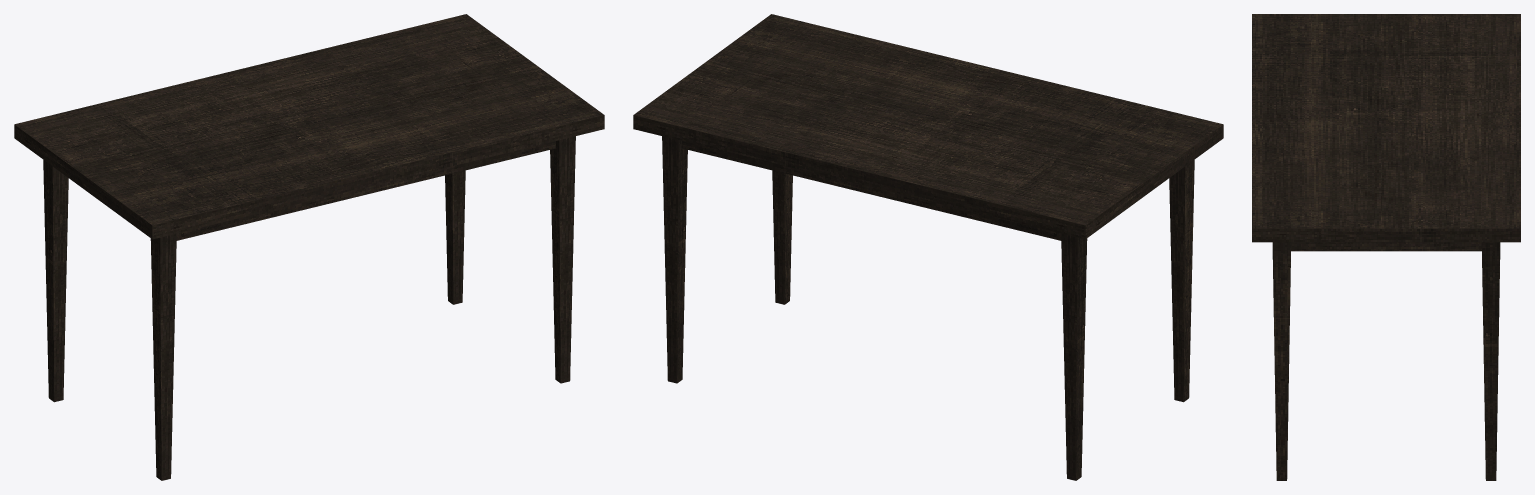
File: table_large_2_2.glb
3 renders of one model, left to right at view 1: azimuth 30°, elevation 25°; view 2: azimuth 150°, elevation 25°; view 3: azimuth 270°, elevation 25°, orthographic. The views are drawn at different scales.
Visible parts, largest first — view 1: table_large_2_2; view 2: table_large_2_2; view 3: table_large_2_2.
Boxes of the visible parts, bbox=[...] form: table_large_2_2: bbox=[14, 14, 604, 480]; table_large_2_2: bbox=[633, 14, 1223, 480]; table_large_2_2: bbox=[1252, 14, 1520, 480].
Bounding box in the file's own units: 1.7 × 0.97 × 0.9.
1 material, 1 textured.
